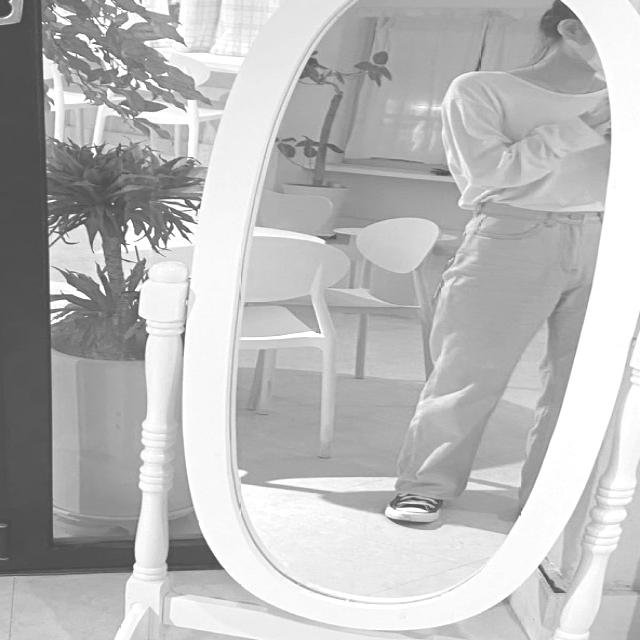cottonpants: (389, 205, 600, 503)
longsleeve: (442, 68, 614, 216)
